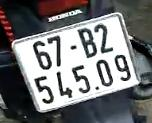0: (92, 57, 118, 88)
2: (93, 21, 118, 55)
4: (52, 68, 77, 102)
5: (31, 73, 58, 106), (69, 62, 93, 96)
6: (29, 39, 56, 73)
7: (46, 33, 71, 69)
9: (112, 52, 135, 83)
B: (75, 25, 101, 61)
